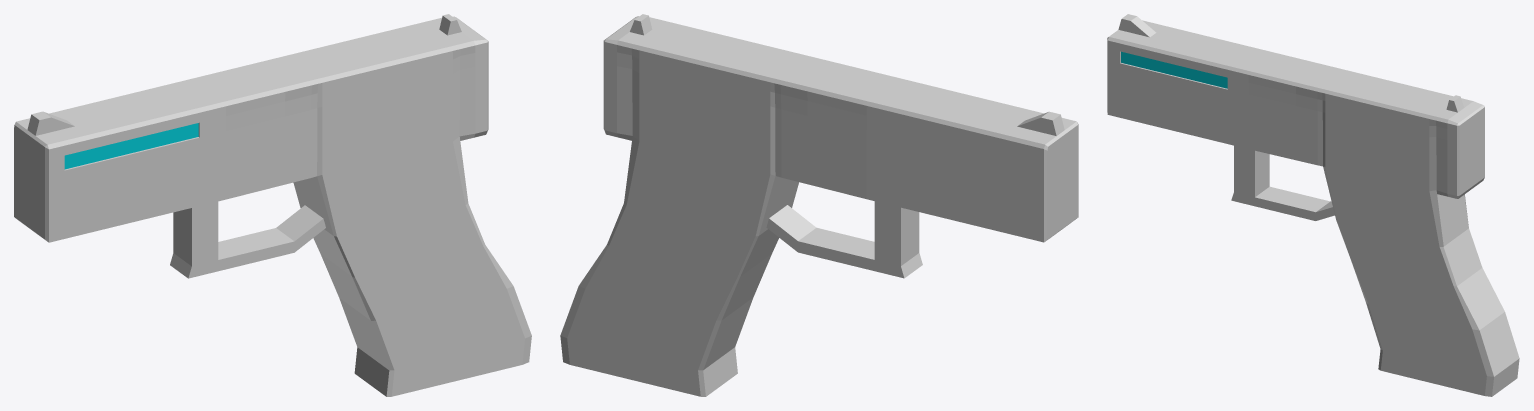
The model's file is Pistol.fbx.
3 renders of one model, left to right at view 1: azimuth 30°, elevation 25°; view 2: azimuth 150°, elevation 25°; view 3: azimuth 330°, elevation 25°, orthographic. The views are drawn at different scales.
Visible parts, largest first — view 1: Cube; view 2: Cube; view 3: Cube.
Part boxes in pixels (x1,y1,x2,y2): Cube: [14, 14, 531, 396]; Cube: [560, 14, 1078, 396]; Cube: [1107, 14, 1519, 396].
Size of the model in its own units: 872 by 599 by 106.
